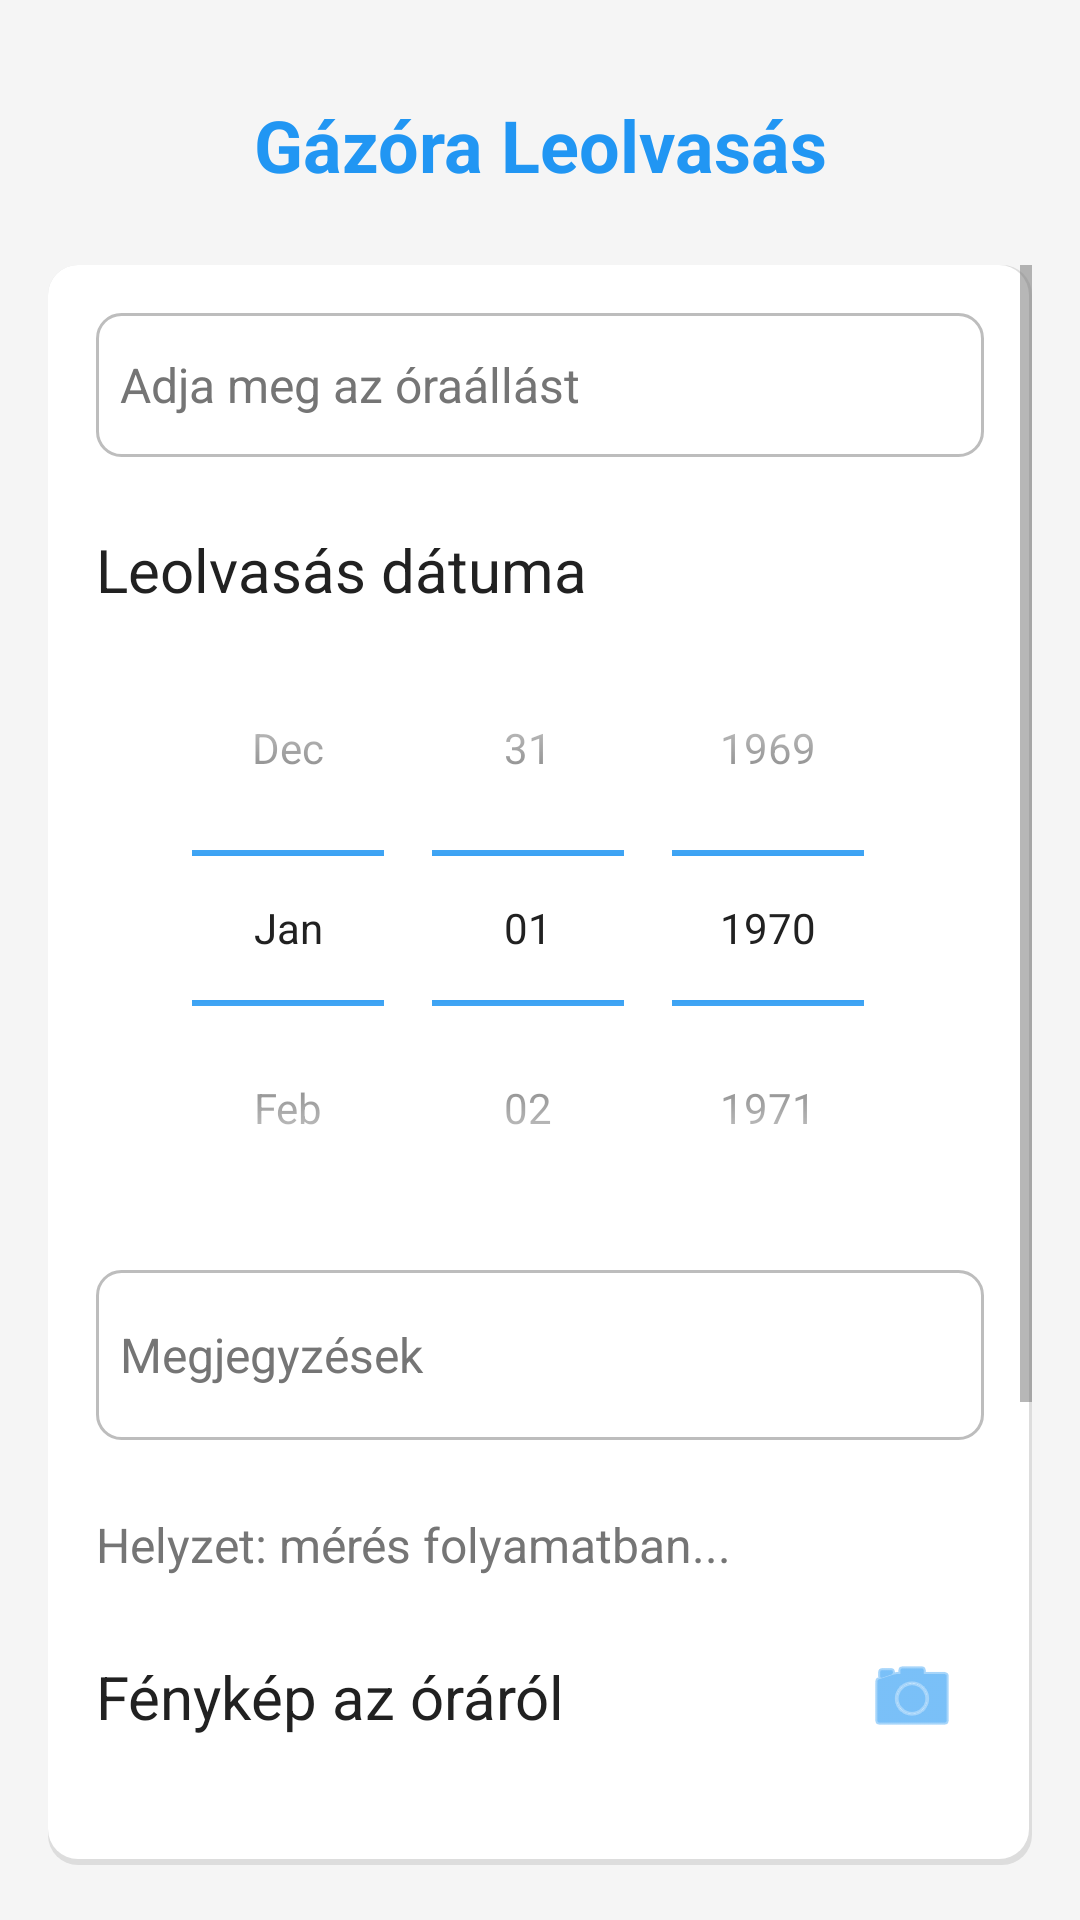

Named icons in this screenshot (1080 x 1920) and their centers, point (x, y):
Fénykép készítése: point (912, 1695)
